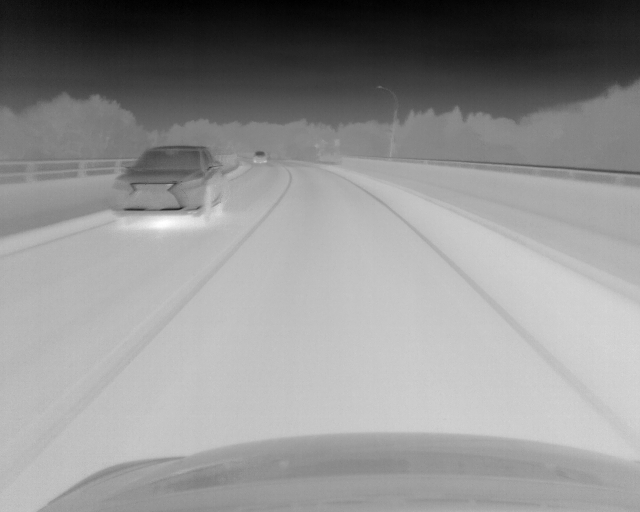car: (111, 145, 225, 223), (253, 150, 267, 164)
